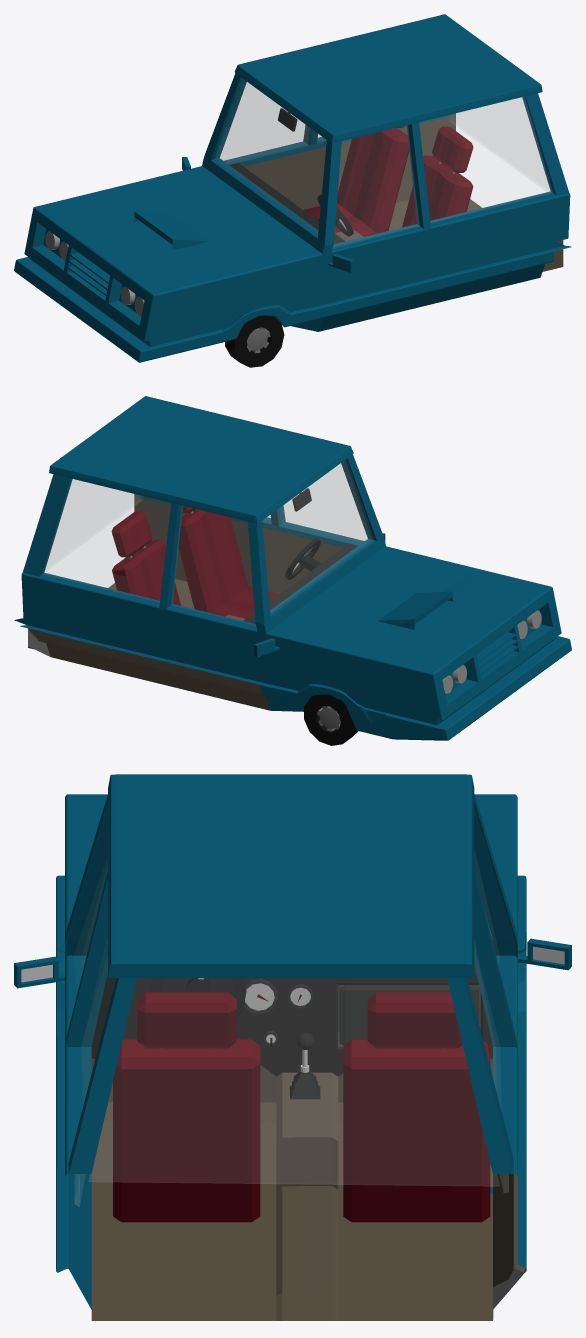
Rendered from Inside_Car.fbx.
3 views of the same model, one above another, from view 1: azimuth 30°, elevation 25°; view 2: azimuth 150°, elevation 25°; view 3: azimuth 270°, elevation 25° (orthographic). The views are drawn at different scales.
Visible parts, largest first — view 1: Car; view 2: Car, Wheel; view 3: Car, Hanskerom1, Wheel.
Boxes of the visible parts, <box> form: Car: <box>14,14,571,367</box>; Car: <box>14,396,571,745</box>; Wheel: <box>285,538,321,579</box>; Car: <box>14,774,571,1320</box>; Hanskerom1: <box>339,985,479,1045</box>; Wheel: <box>150,978,246,1018</box>.
Bounding box in the file's own units: 22.38 × 9.75 × 13.09.
